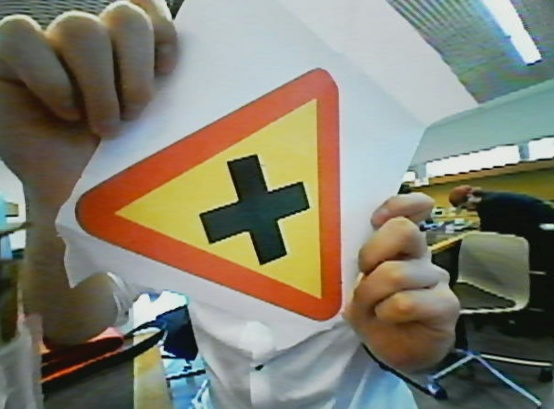junction: (87, 70, 344, 343)
